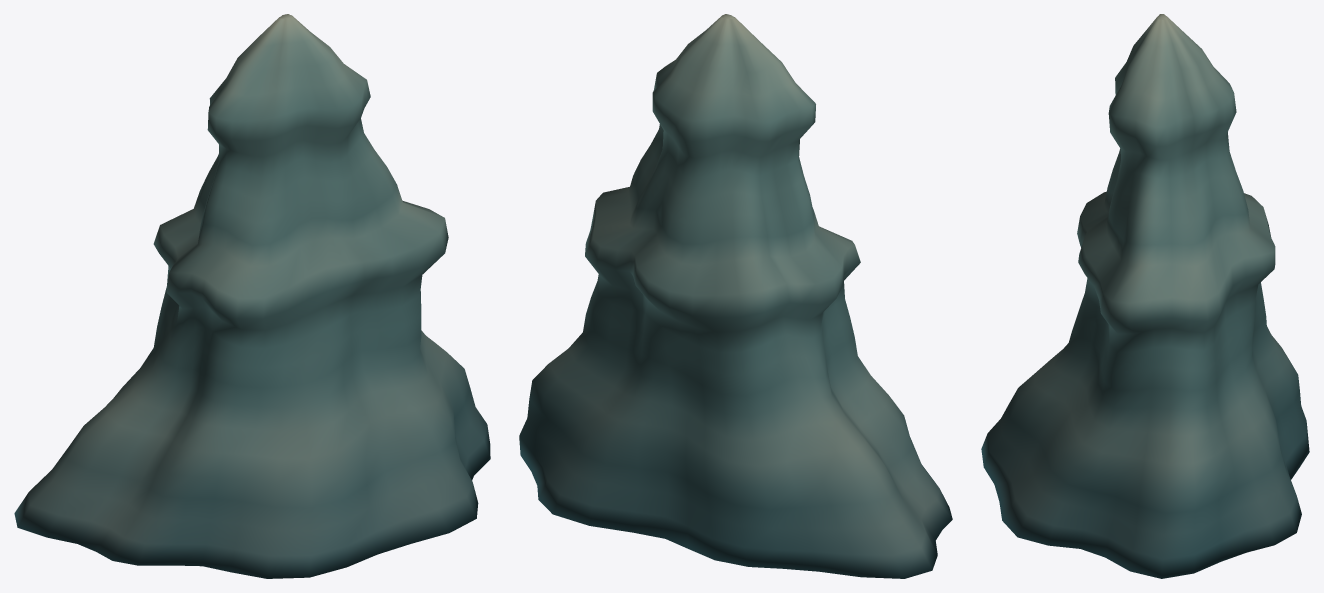
The model's file is reef-buttress.glb.
The picture shows the model from 3 angles, left to right: view 1: azimuth 30°, elevation 25°; view 2: azimuth 150°, elevation 25°; view 3: azimuth 270°, elevation 25°; orthographic projection. The views are drawn at different scales.
Parts seen in each view (by area): view 1: reef-buttress.001; view 2: reef-buttress.001; view 3: reef-buttress.001.
Boxes of the visible parts, bbox=[...] form: reef-buttress.001: bbox=[14, 14, 490, 578]; reef-buttress.001: bbox=[519, 14, 952, 578]; reef-buttress.001: bbox=[981, 14, 1309, 578].
Bounding box in the file's own units: 7.17 × 7.4 × 4.74.
